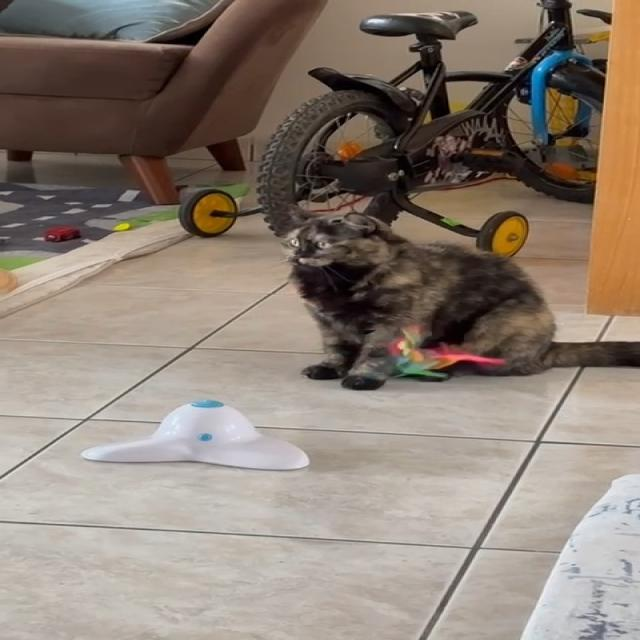authorized: (266, 202, 638, 390)
